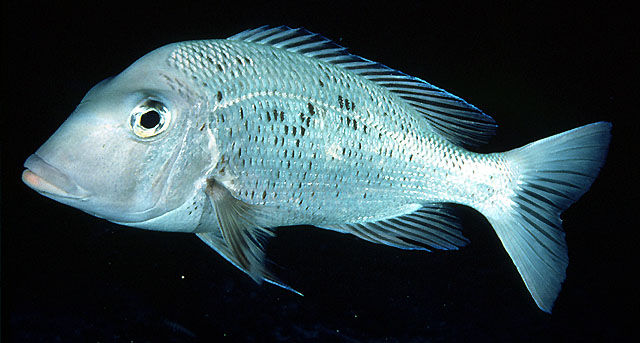fish: (21, 25, 613, 315)
